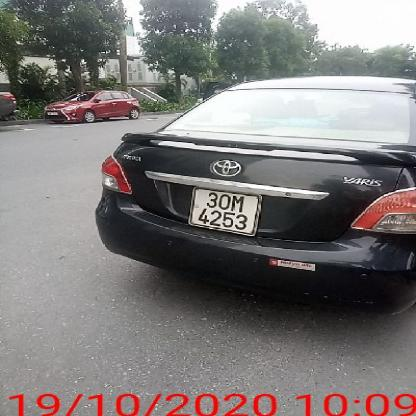biensoxe: (187, 185, 260, 234)
